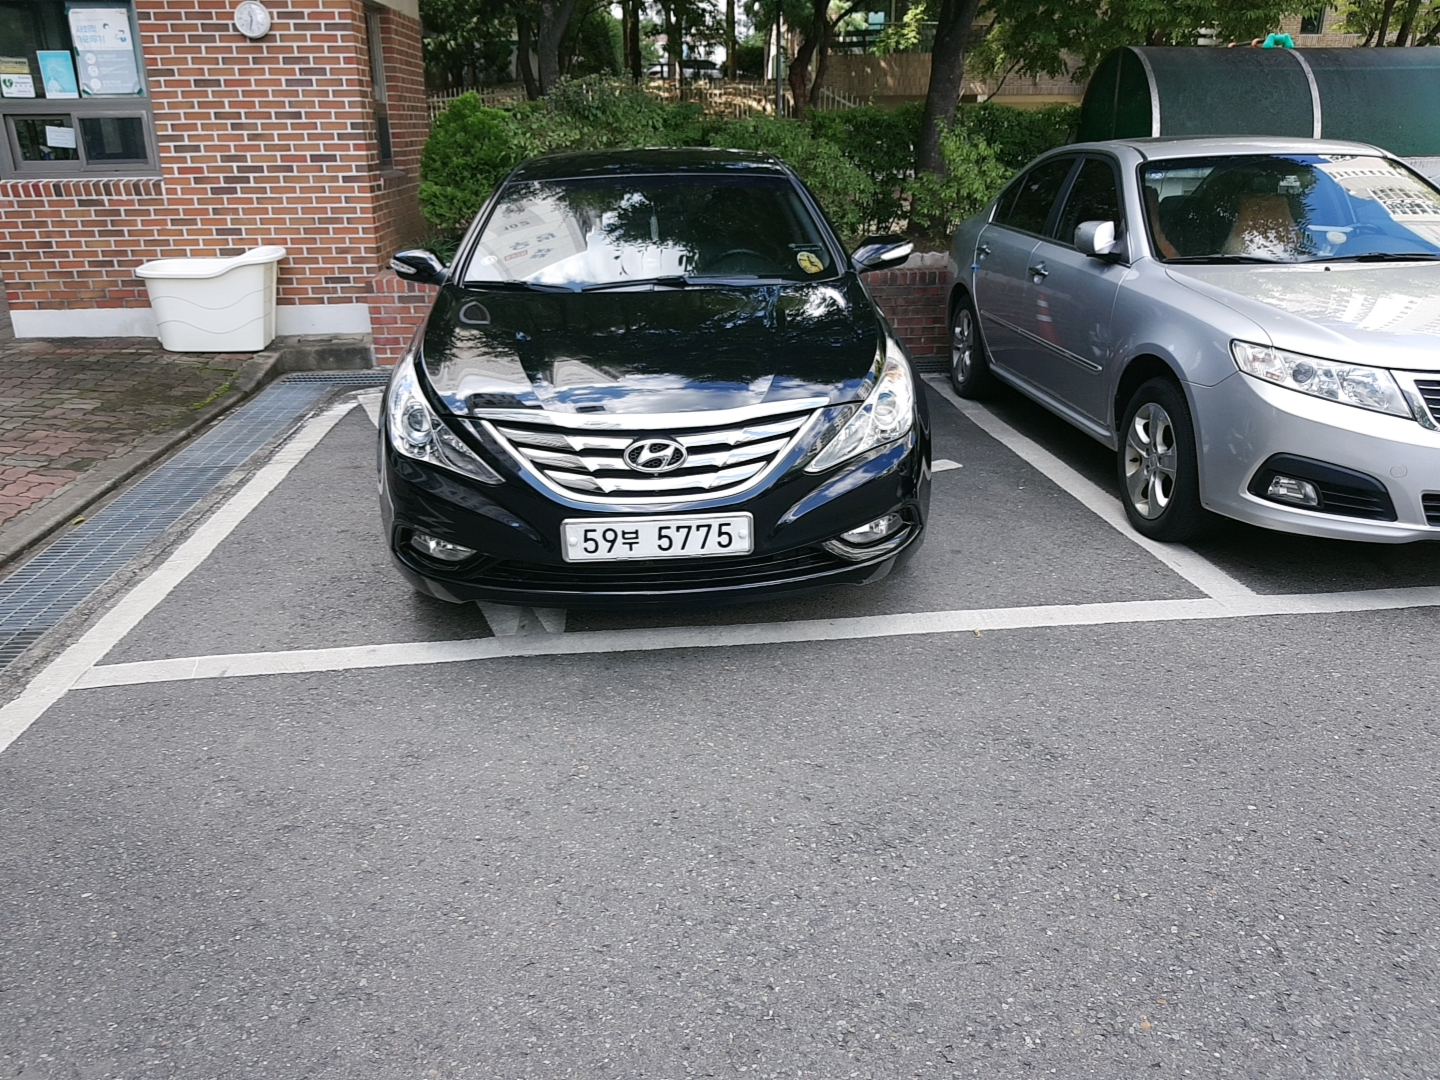disabled_parking: (793, 247, 831, 276)
